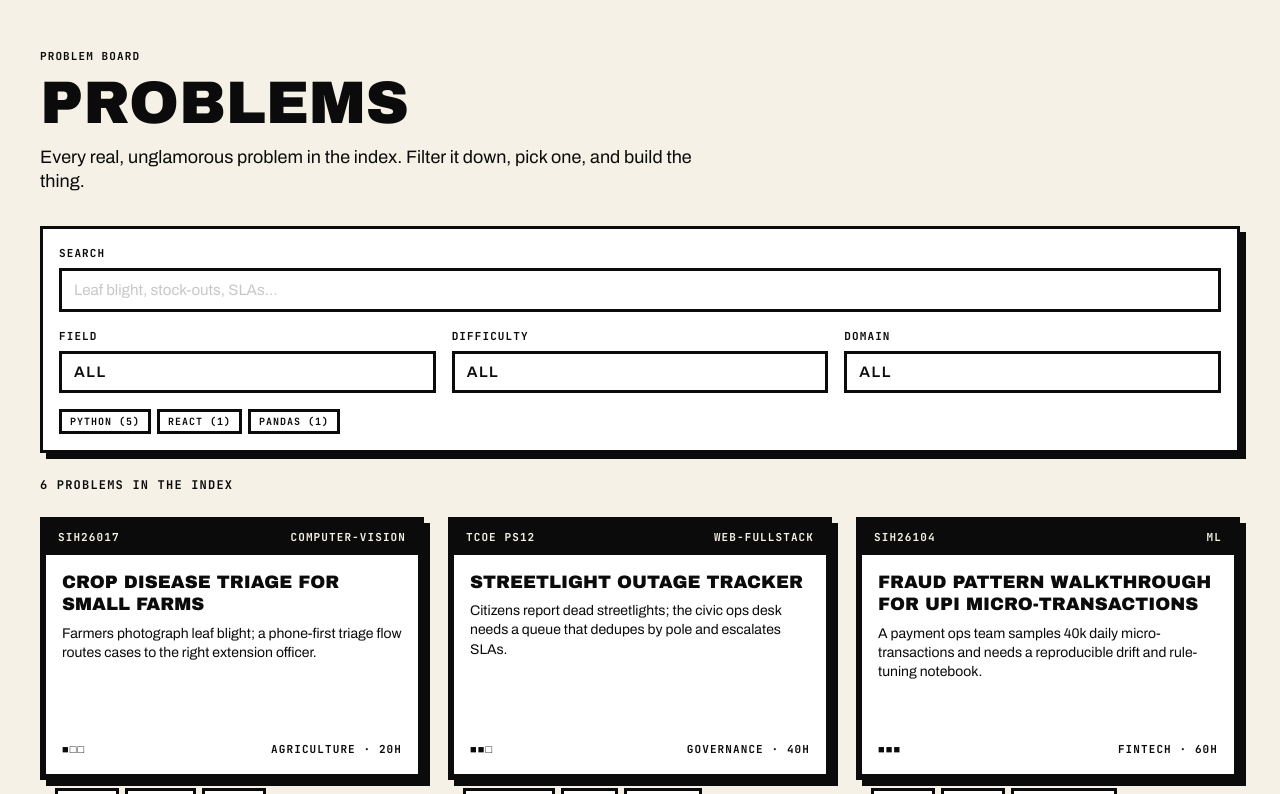
Test: ProblemBoardPage › typing in search filters the results
This screenshot has width=1280, height=794.
In the search field labelled "Search": (640, 290) [59,268,1221,312], type "fraud"
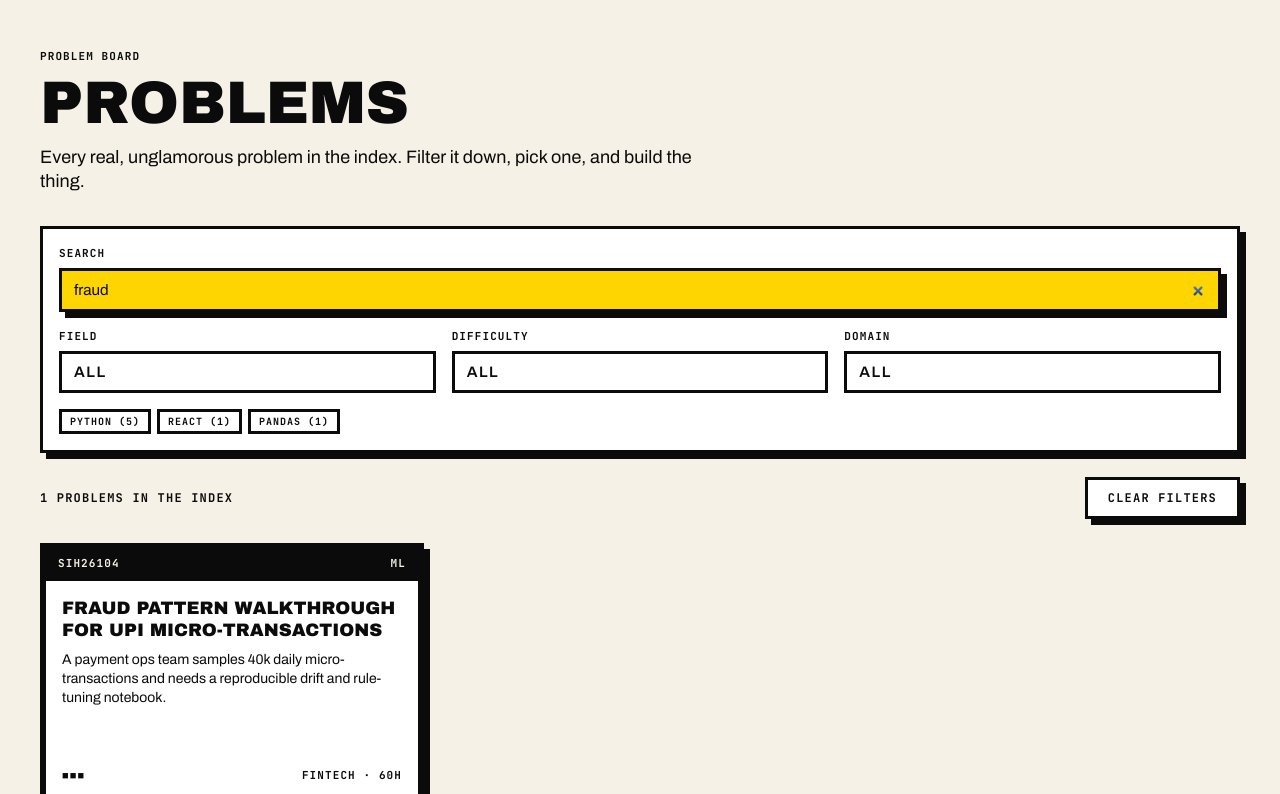
Expected: the heading "Fraud pattern walkthrough for UPI micro-transactions" is shown, [62,596,402,642]
Result: the link "Crop disease triage for small farms" is gone
Result: the text "1 problems in the index" is shown at [40,490,233,506]
